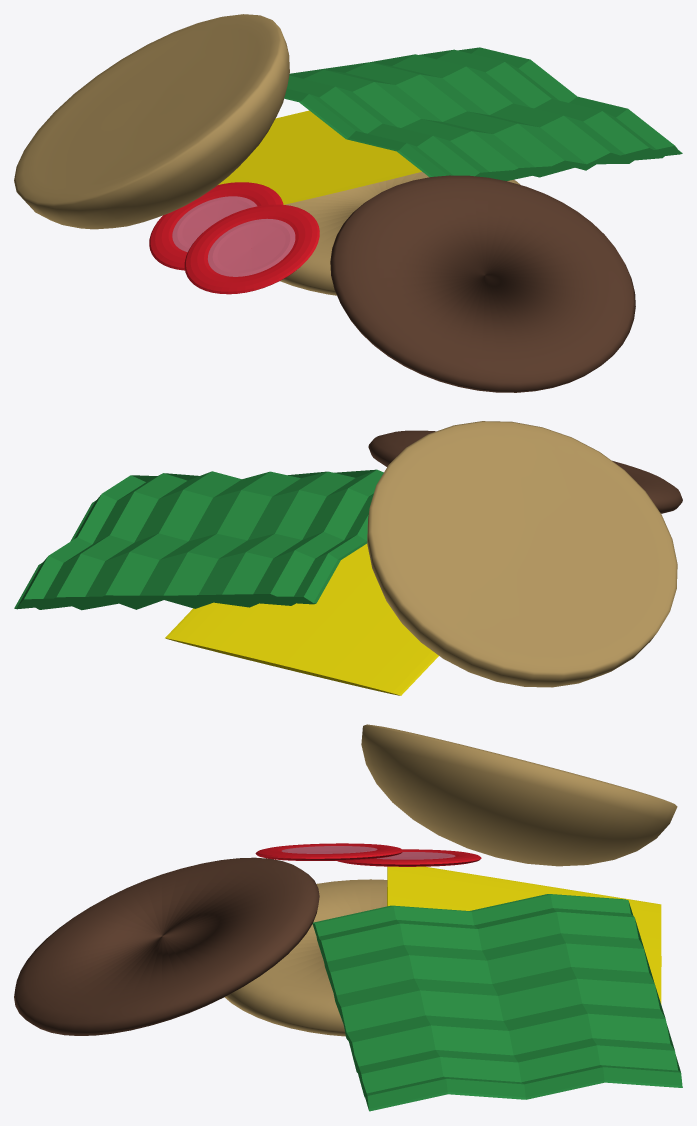
The model's file is broken burger.fbx.
3 renders of one model, top to bottom at view 1: azimuth 30°, elevation 25°; view 2: azimuth 150°, elevation 25°; view 3: azimuth 270°, elevation 25°, orthographic. The views are drawn at different scales.
Parts seen in each view (by area): view 1: Torus.002, Sphere, Cylinder, Torus.001, Cylinder.001, Torus; view 2: Sphere, Cylinder, Cylinder.001, Torus.002; view 3: Cylinder, Torus.002, Sphere, Torus, Cylinder.001, Torus.001.
Boxes of the visible parts, bbox=[...] form: Torus.002: bbox=[330, 175, 635, 392]; Sphere: bbox=[14, 14, 289, 229]; Cylinder: bbox=[284, 47, 682, 180]; Torus.001: bbox=[149, 182, 319, 294]; Cylinder.001: bbox=[218, 110, 421, 204]; Torus: bbox=[280, 172, 520, 295]; Sphere: bbox=[367, 421, 677, 687]; Cylinder: bbox=[14, 469, 383, 610]; Cylinder.001: bbox=[165, 543, 438, 695]; Torus.002: bbox=[368, 430, 682, 513]; Cylinder: bbox=[312, 894, 682, 1111]; Torus.002: bbox=[14, 857, 319, 1035]; Sphere: bbox=[361, 724, 677, 866]; Torus: bbox=[224, 879, 387, 1036]; Cylinder.001: bbox=[387, 866, 661, 1003]; Torus.001: bbox=[255, 843, 481, 866].
Bounding box in the file's own units: 543 × 191 × 514.
